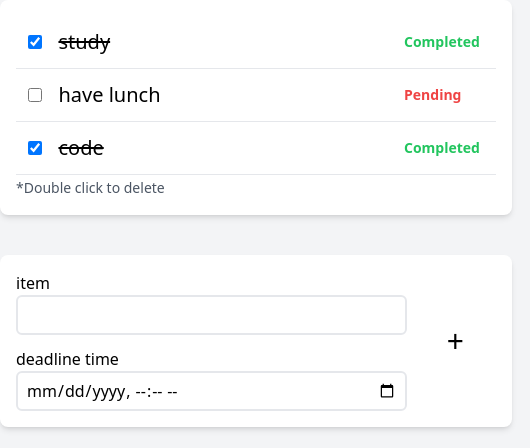
Scenario: todoList component › should mark task as Completed when checkbox is clicked
The width and height of the screenshot is (530, 448).
Check: the text "study" is shown, box [58, 28, 110, 55]
Note: 點擊 checkbox 切換狀態
Click the checkbox next to "study": (35, 42) [28, 32, 42, 52]
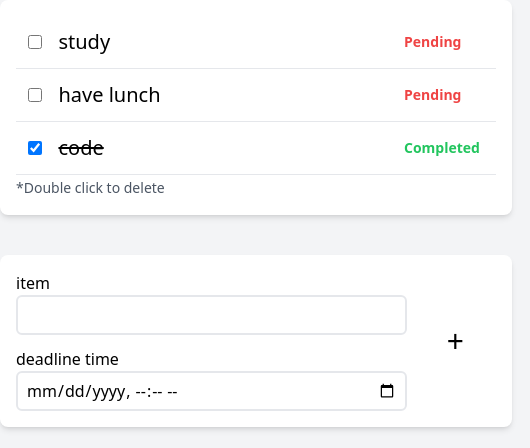
Check: the text "Pending" in the row of "study" is shown, box [404, 32, 462, 51]
Note: 點擊 title 切換狀態
Click the text "study": (84, 42) [58, 28, 110, 55]
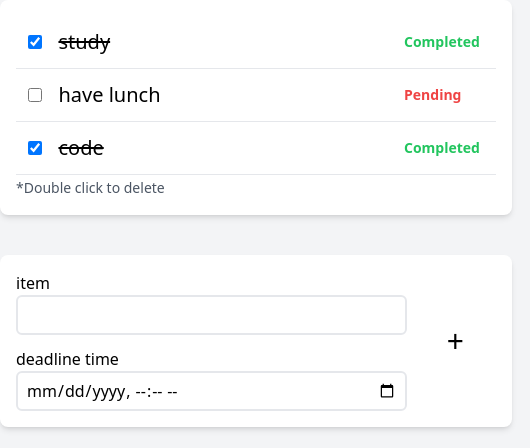
Check: the text "Completed" in the row of "study" is shown, box [404, 32, 480, 51]
